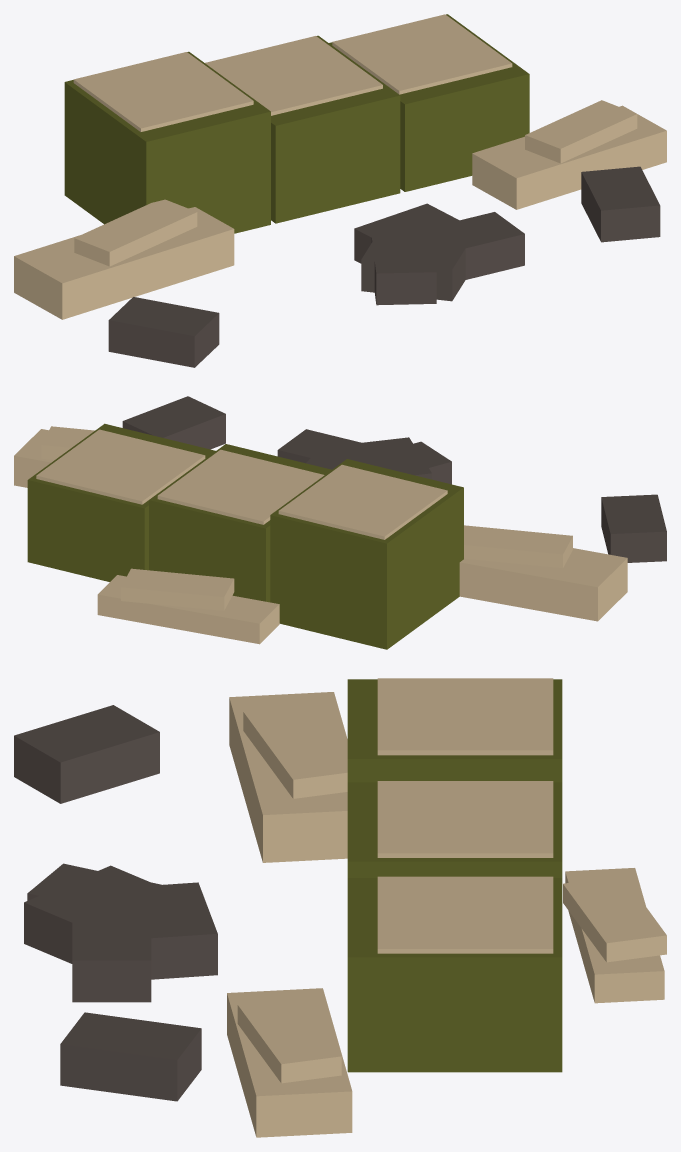
Rendered from SM_HescoCorto3_v1_Geotextil_e2_MuyDanado_LOD1.fbx.
3 renders of one model, top to bottom at view 1: azimuth 30°, elevation 25°; view 2: azimuth 150°, elevation 25°; view 3: azimuth 270°, elevation 25°, orthographic. The views are drawn at different scales.
Visible parts, largest first — view 1: SM_hesco_piezas_v86_LOD1; view 2: SM_hesco_piezas_v86_LOD1; view 3: SM_hesco_piezas_v86_LOD1.
Boxes of the visible parts, x1=… form: SM_hesco_piezas_v86_LOD1: x1=14, y1=14, x2=666, y2=367; SM_hesco_piezas_v86_LOD1: x1=14, y1=396, x2=666, y2=649; SM_hesco_piezas_v86_LOD1: x1=14, y1=678, x2=666, y2=1137.
Bounding box in the file's own units: 5.36 × 0.9603 × 3.71.
